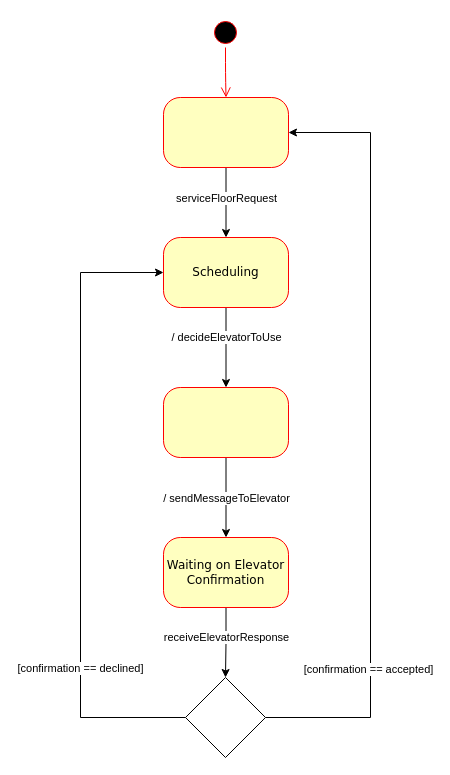
Some shapes in this 450 by 775 pixel diagram are drawn without their labels. The shapes that lost their labels are listed below. From the top down, each one's centre as x and y in pixels, then its label:
[225,132]: Waiting for Floor Request Message and Elevator State Change
[225,422]: Form Elevator Message
